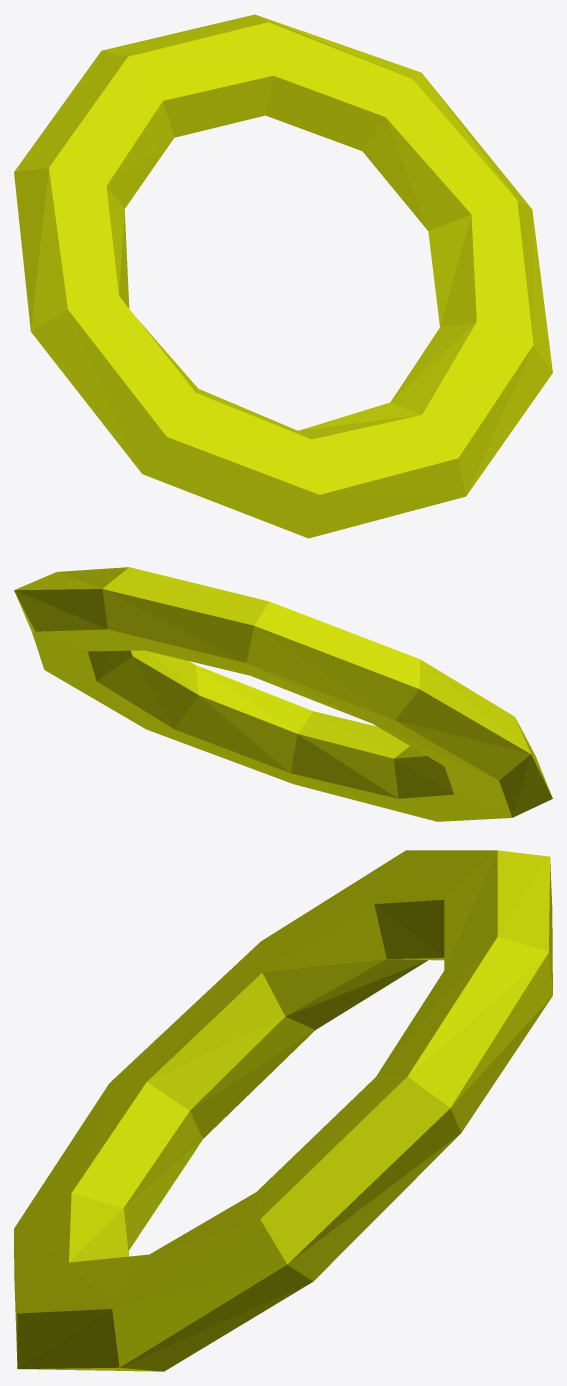
Rendered from AngelHalo_v.1.0.fbx.
3 views of the same model, one above another, from view 1: azimuth 30°, elevation 25°; view 2: azimuth 150°, elevation 25°; view 3: azimuth 270°, elevation 25° (orthographic). The views are drawn at different scales.
Visible parts, largest first — view 1: Torus; view 2: Torus; view 3: Torus.
Part boxes in pixels (bbox=[...]): Torus: bbox=[14, 14, 552, 538]; Torus: bbox=[14, 567, 552, 821]; Torus: bbox=[14, 850, 552, 1371].
Bounding box in the file's own units: 0.5355 × 0.3514 × 0.3936.
